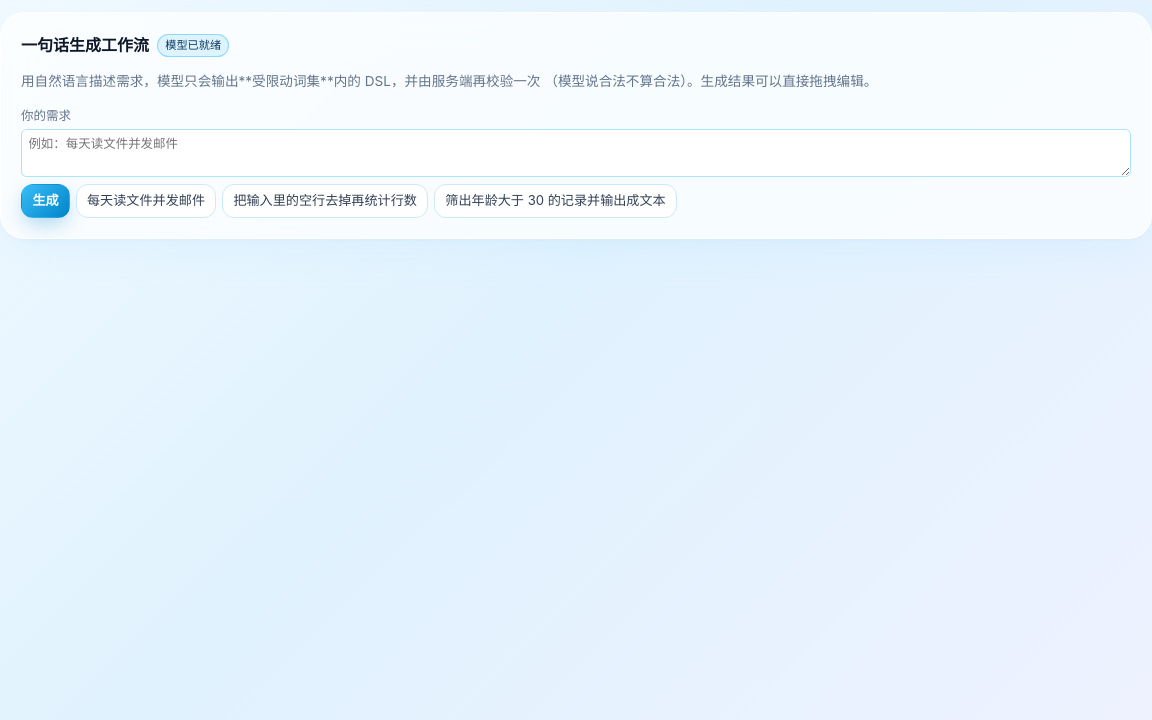
Scenario: GeneratePanel 一句话生成 · 诚实契约 › 422 校验失败：原样展示后端真实校验错误，并说明已自动重试
The width and height of the screenshot is (1152, 720).
Expected: the text "模型已就绪" is shown, left=157, top=34, right=229, bottom=57
Type "每天读文件并发邮件" into the text box with test id "flow-generate-prompt". click: point(576, 153)
box: left=21, top=129, right=1131, bottom=177
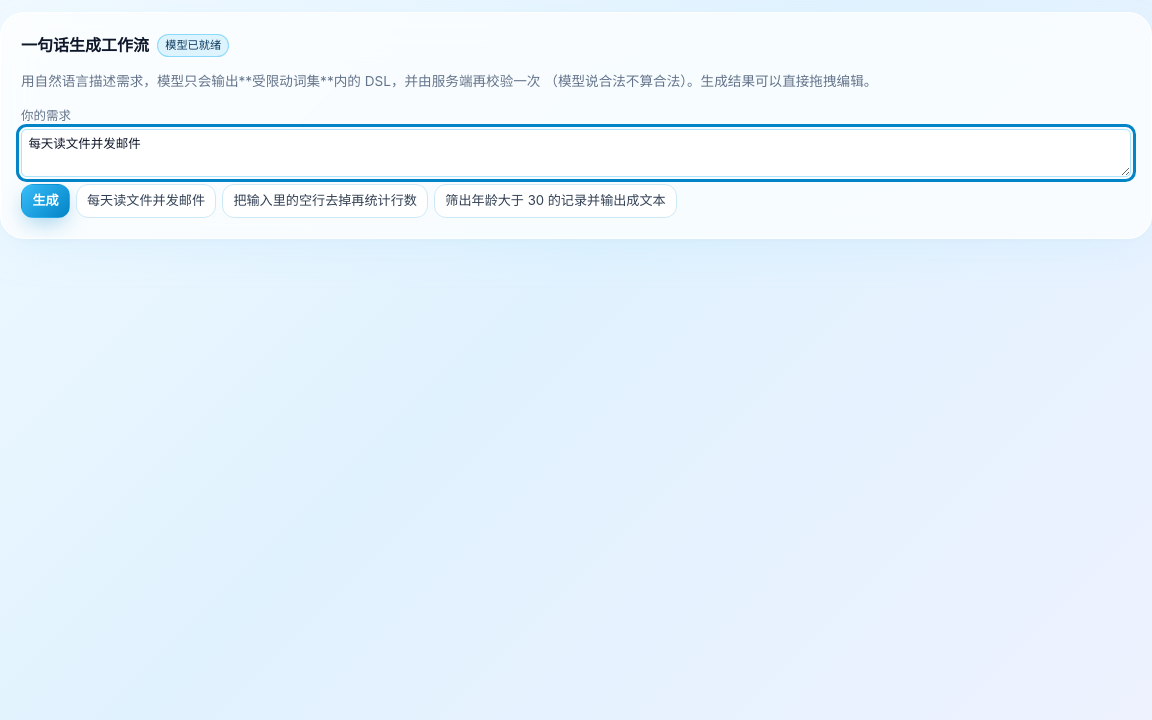
Click the button with test id "flow-generate-run". click: point(46, 201)
box: left=21, top=184, right=70, bottom=218
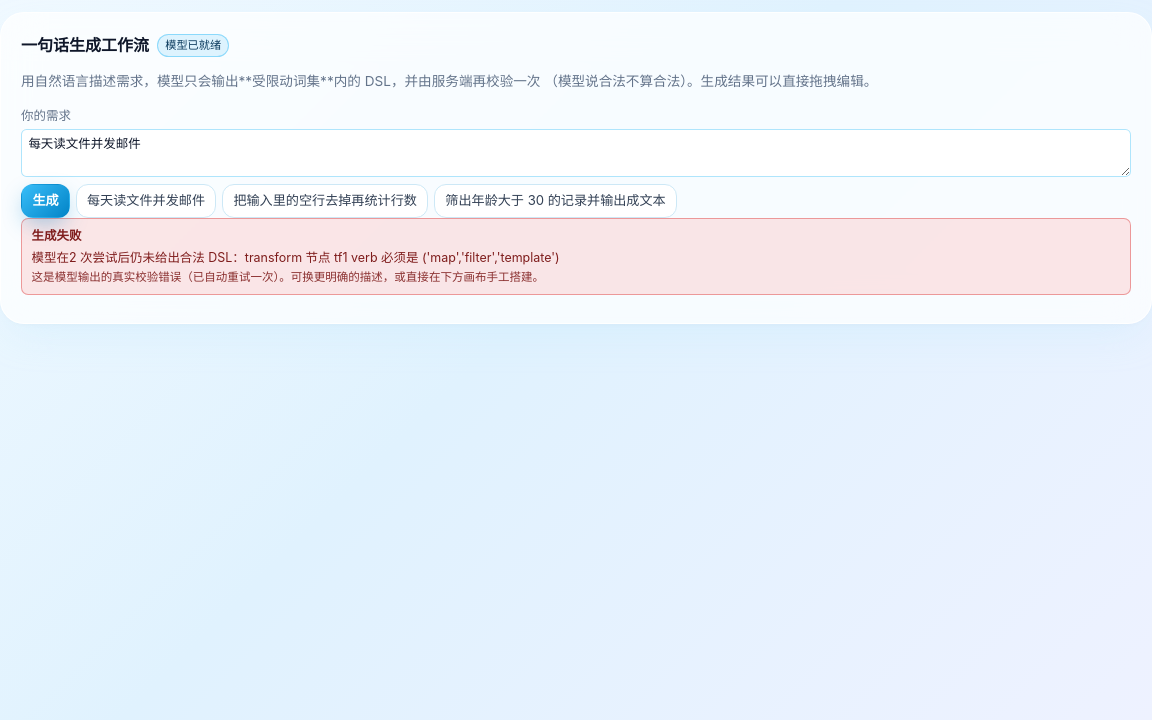
Expected: the message with test id "flow-generate-error" shows "仍未给出合法 DSL", left=32, top=250, right=560, bottom=264
Expected: the message with test id "flow-generate-error" shows "('map','filter','template')", left=32, top=250, right=560, bottom=264
Expected: the message with test id "flow-generate-error" shows "已自动重试一次", left=32, top=270, right=544, bottom=284
